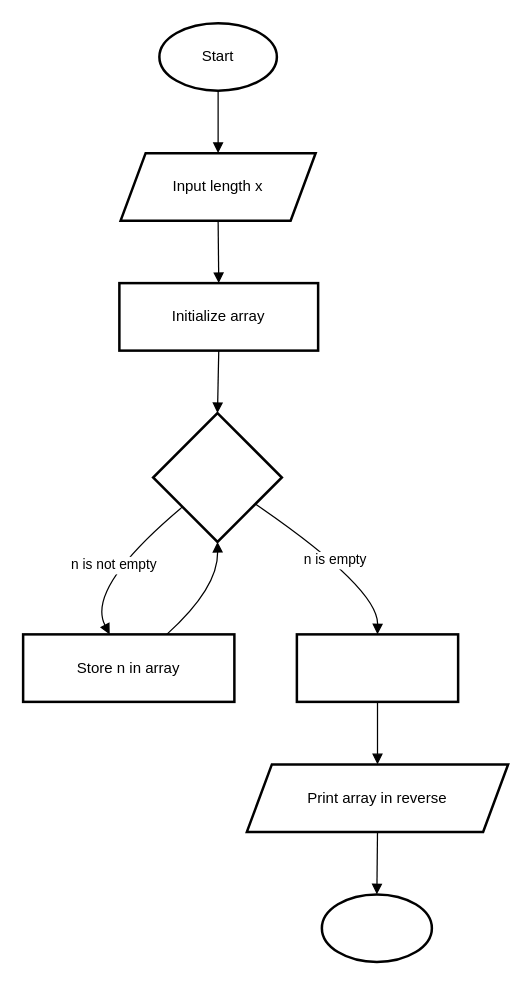
The diagram is 530 pixels wide and 984 high, and some of its shapes have lost their labels. Each missing label, with the centre of its shape:
"End" belongs at point 376,927.
"End Input" belongs at point 377,667.
"Input n" belongs at point 216,476.
